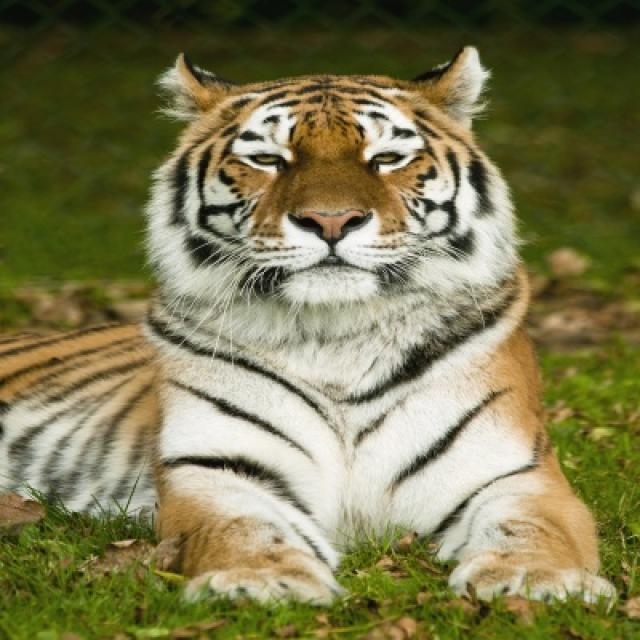Tiger: (2, 39, 617, 602)
